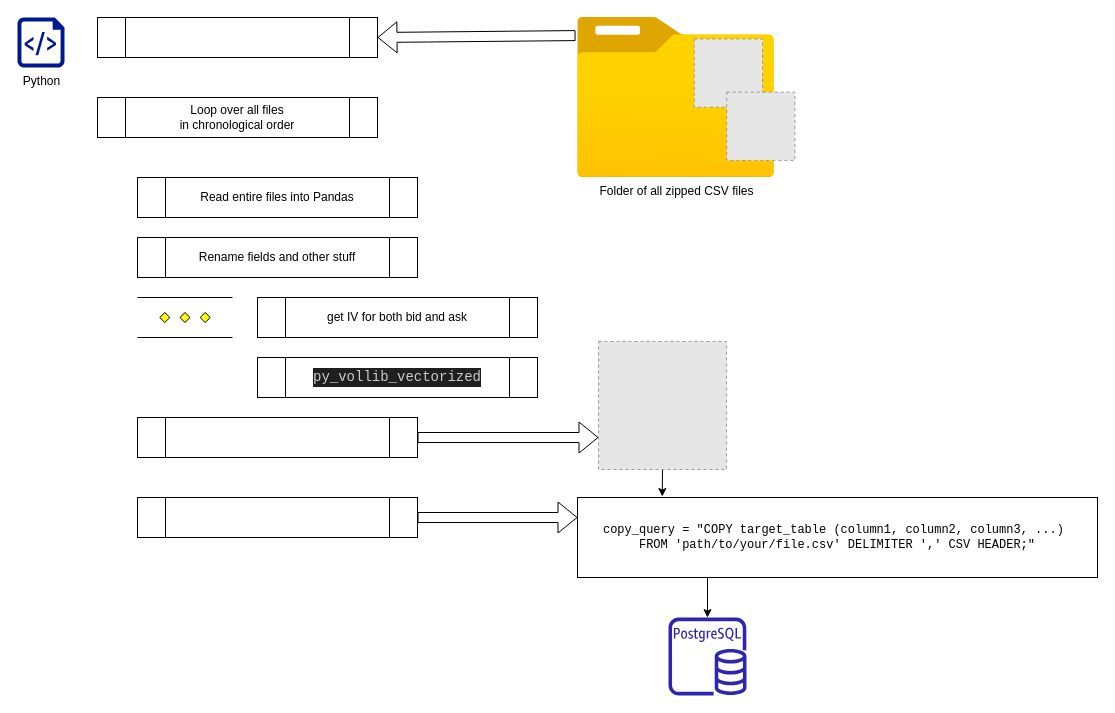
Some shapes in this 1115 by 713 pixel diagram are drawn without their labels. Grey dashed boxes stand in for pictures. Here are the shapes that lost their labels. From the top down, the centre of each, then its label:
(x=237, y=37): Get file list
(x=184, y=317): Parallel
(x=277, y=437): Write file to CSV
(x=277, y=517): Connect and write a query
